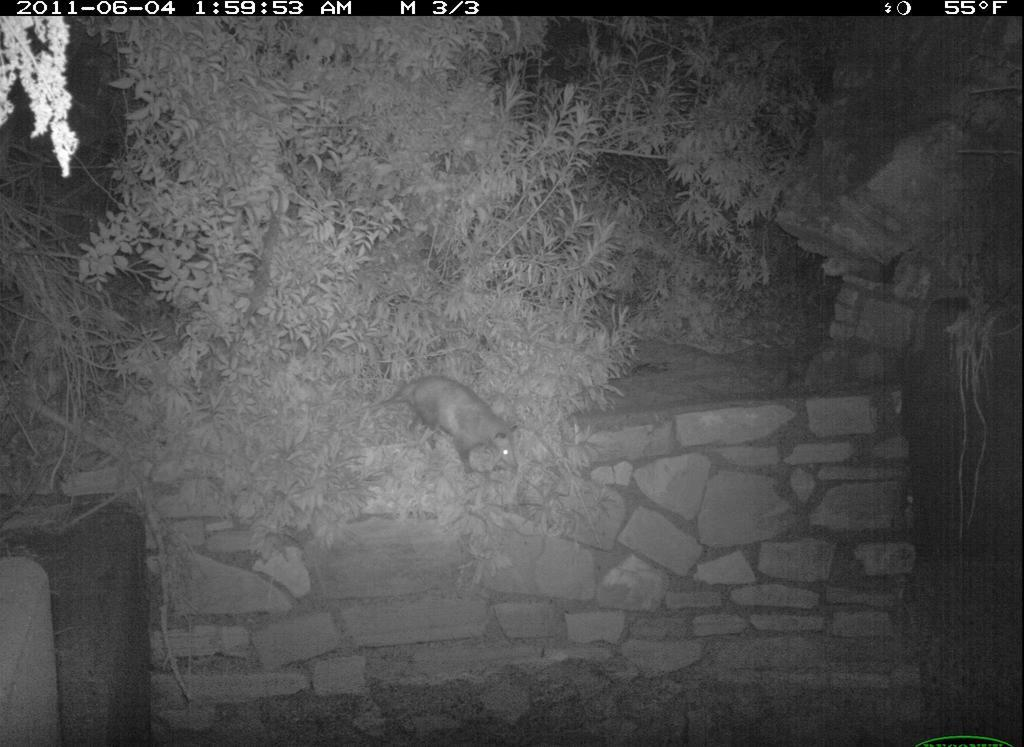opossum: (360, 373, 524, 487)
